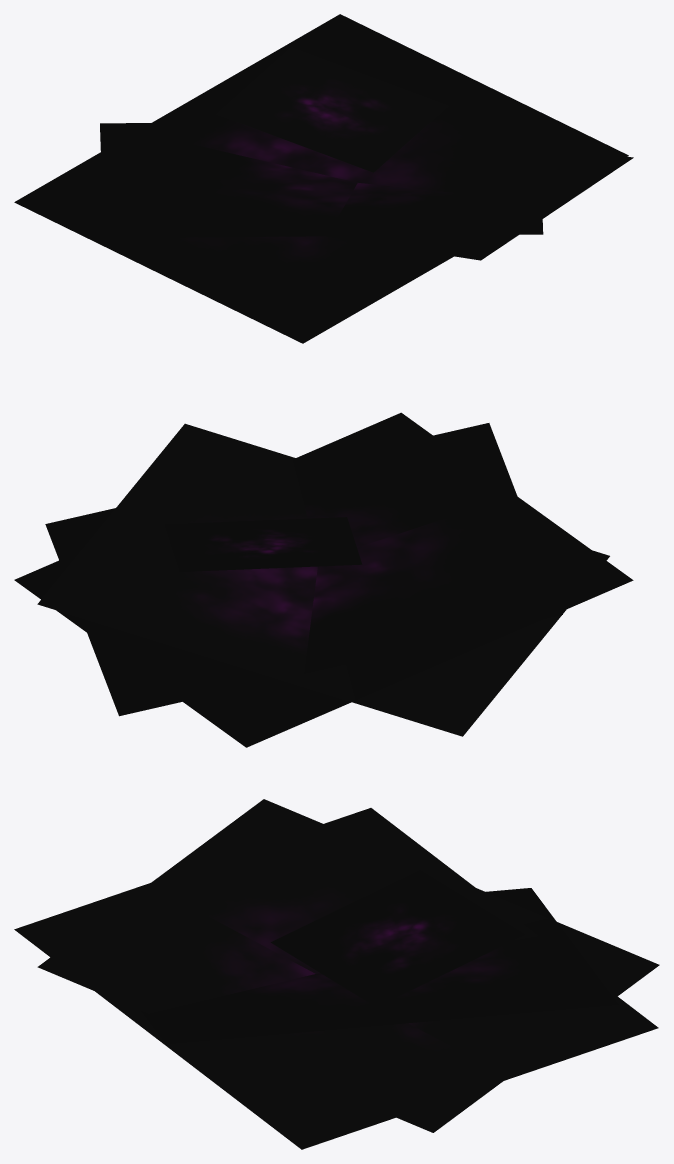
File: PoisonousFog.fbx
3 renders of one model, top to bottom at view 1: azimuth 30°, elevation 25°; view 2: azimuth 150°, elevation 25°; view 3: azimuth 270°, elevation 25°, orthographic. The views are drawn at different scales.
Visible parts, largest first — view 1: Plane; view 2: Plane; view 3: Plane.
Part boxes in pixels (x1,y1,x2,y2): Plane: (14, 14, 633, 343); Plane: (14, 412, 633, 747); Plane: (14, 799, 659, 1149).
Size of the model in its own units: 2.23 by 0.3905 by 2.06.
Materials: 1 (1 with a texture image).
